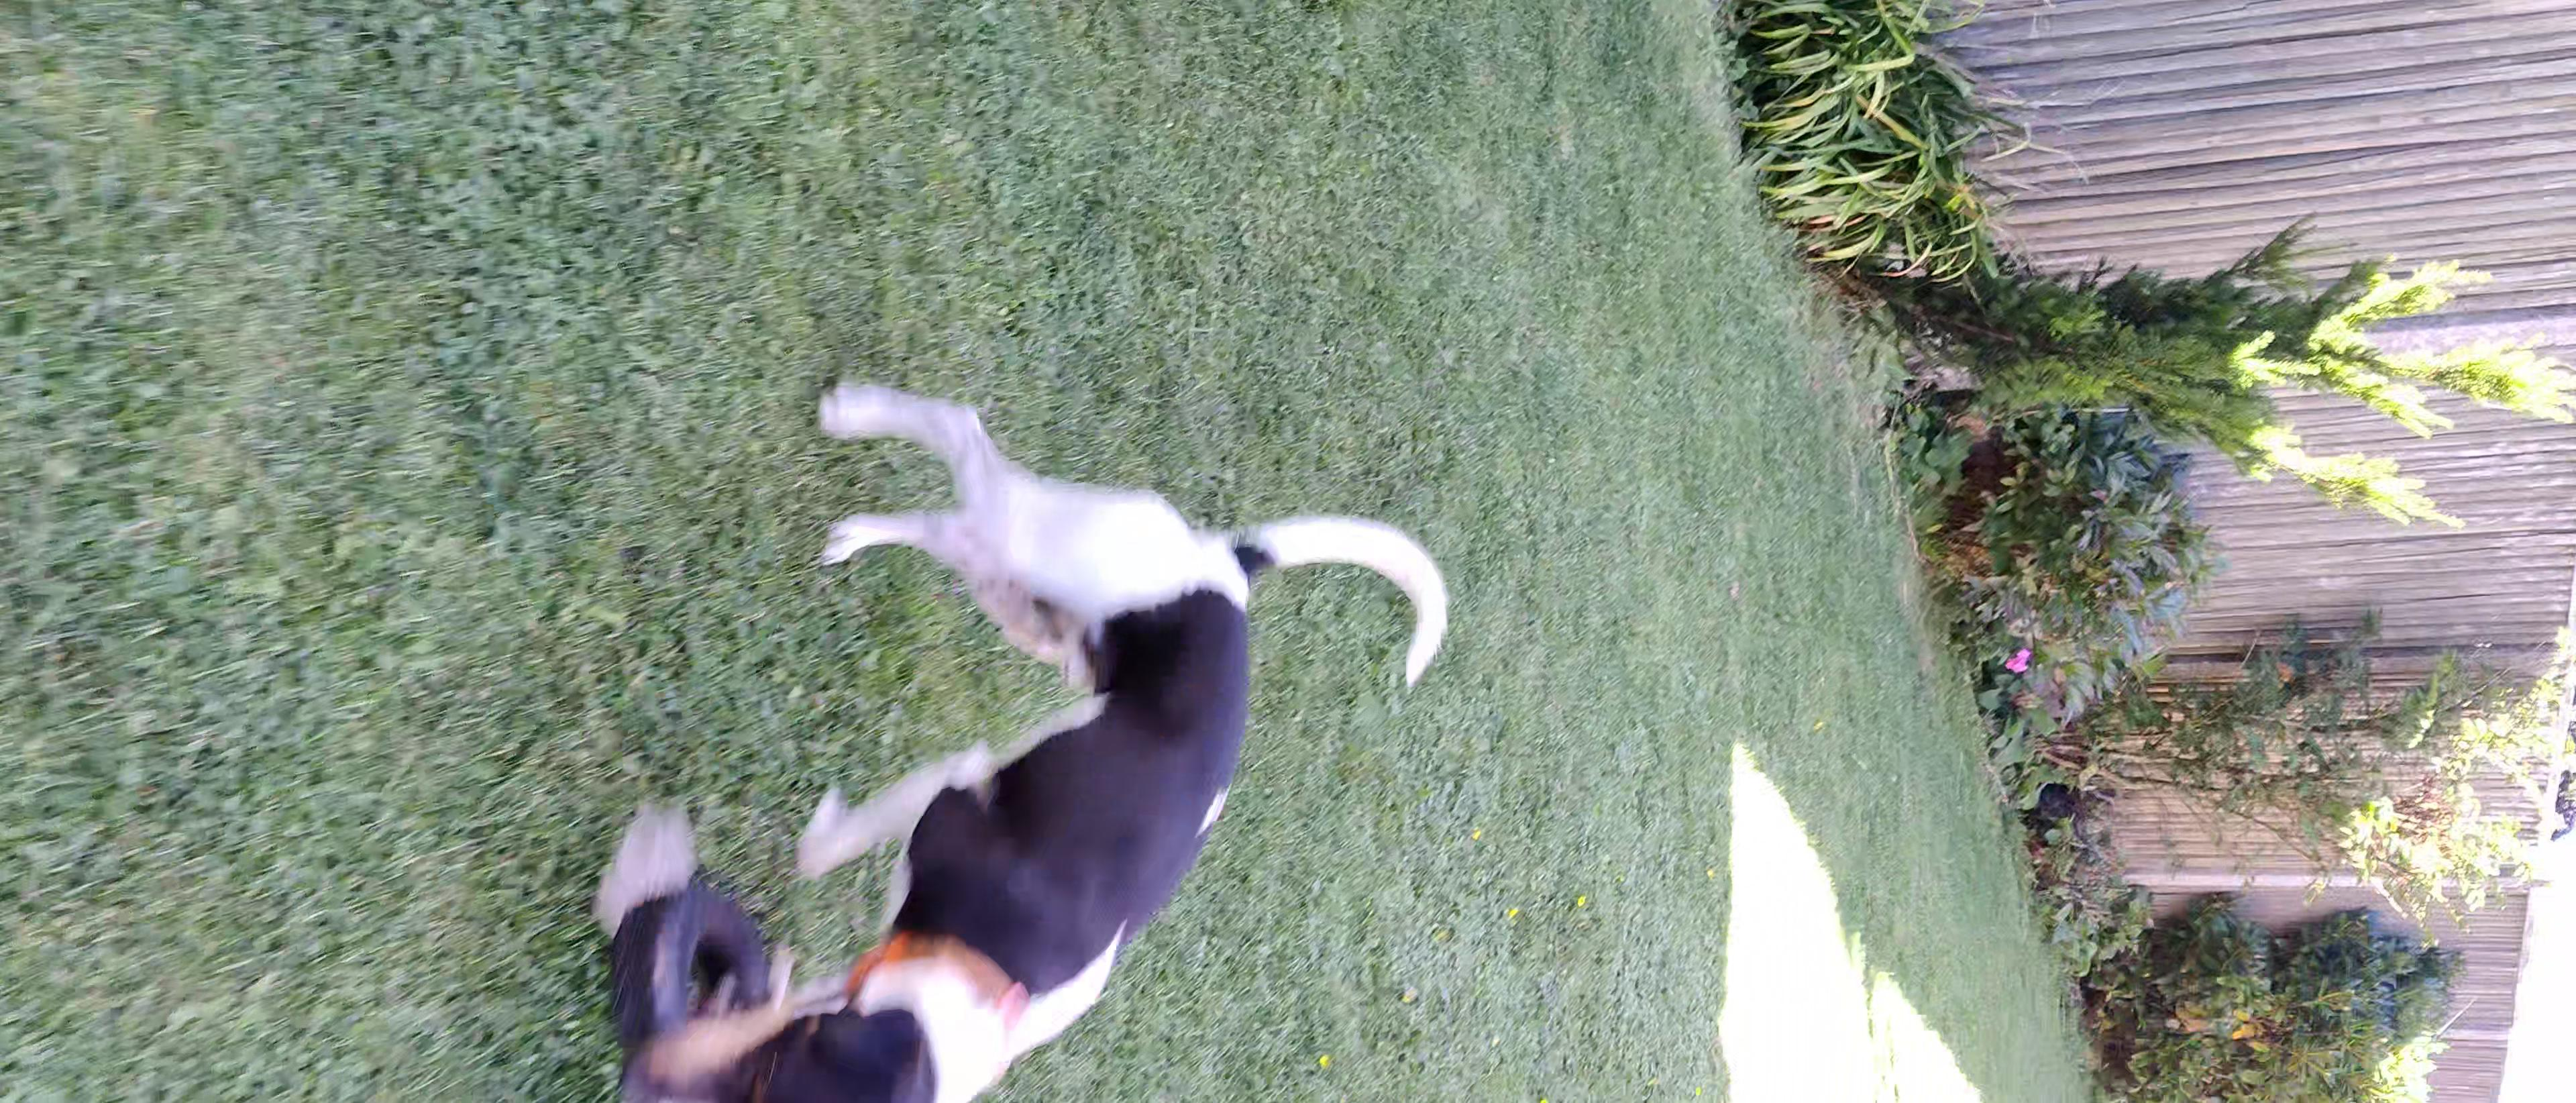Dog: (524, 362, 1470, 1103)
